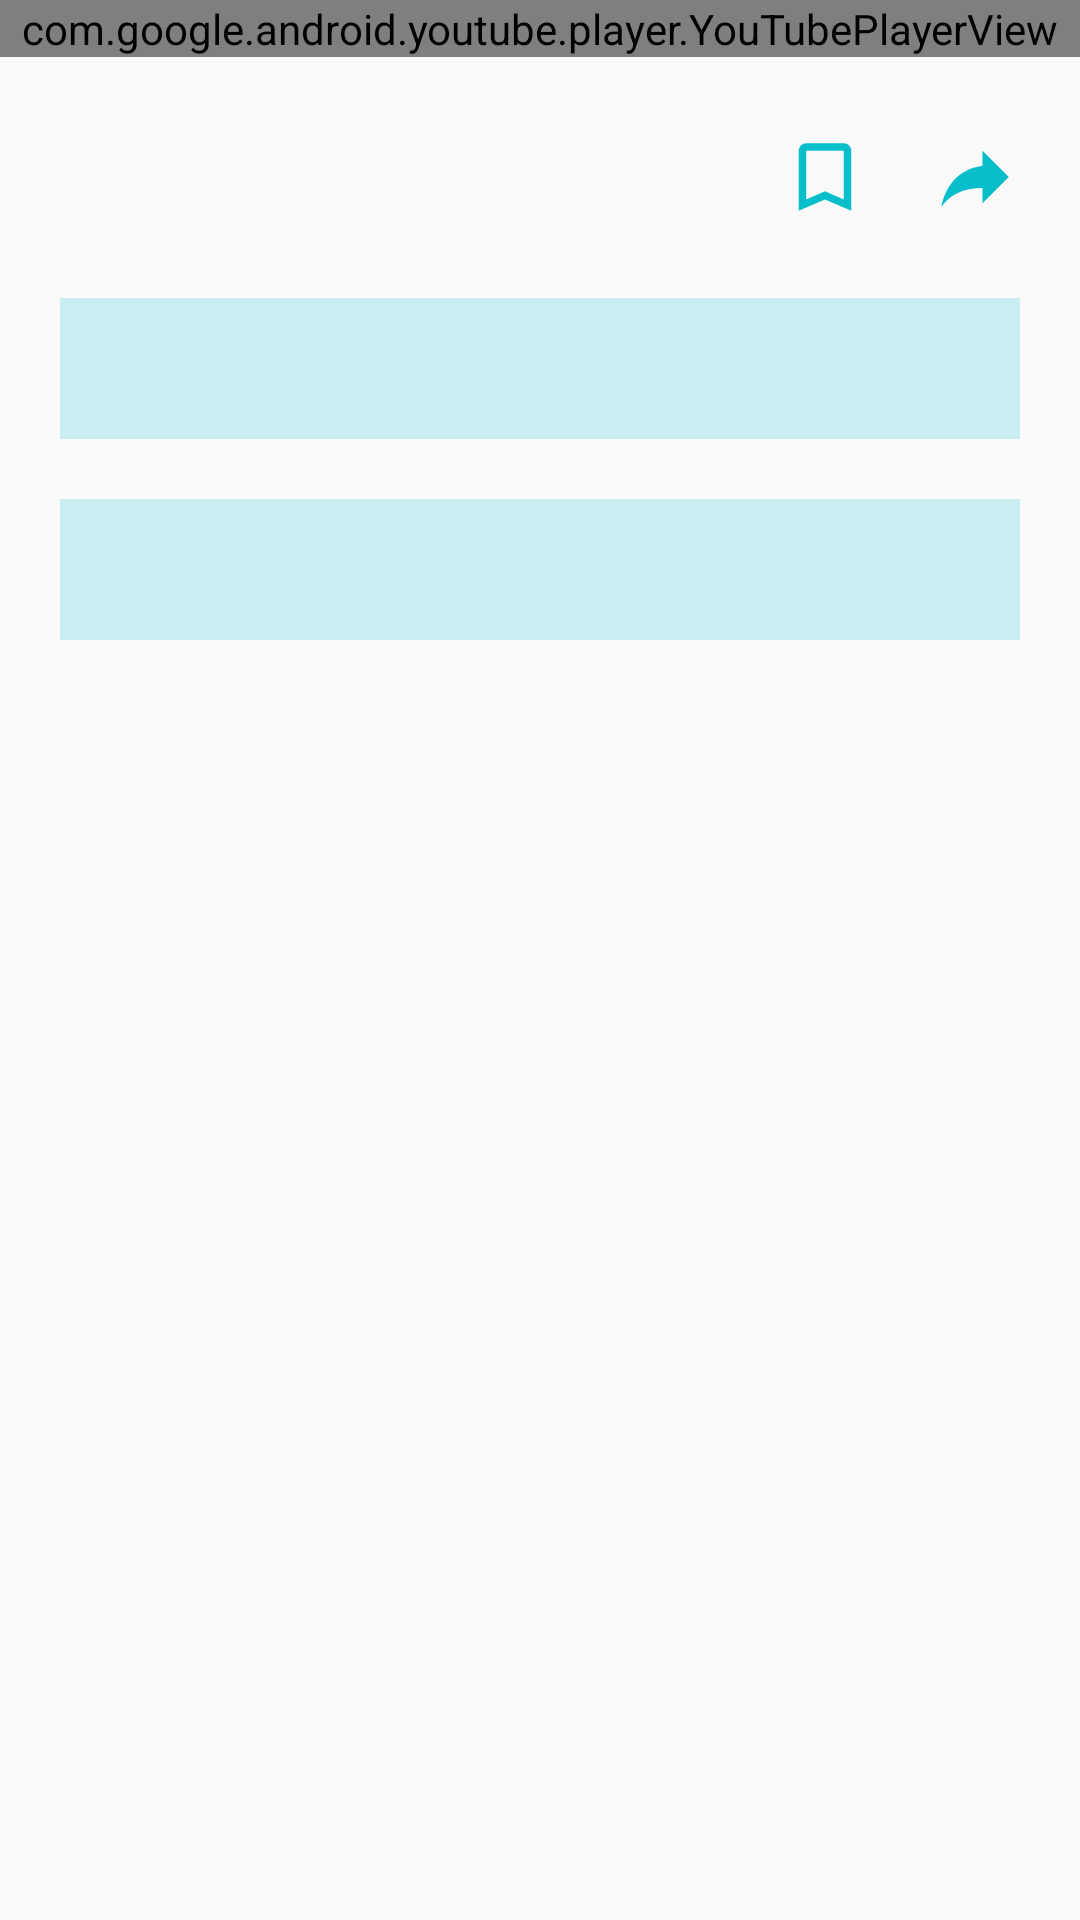

Point at icon controls on the screen. Image size 1080 x 1920, points as point (x, y).
share: point (975, 179)
